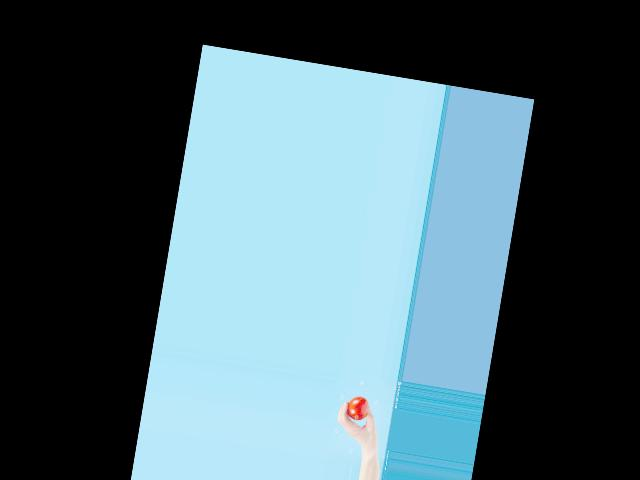tomato: (345, 395, 370, 421)
